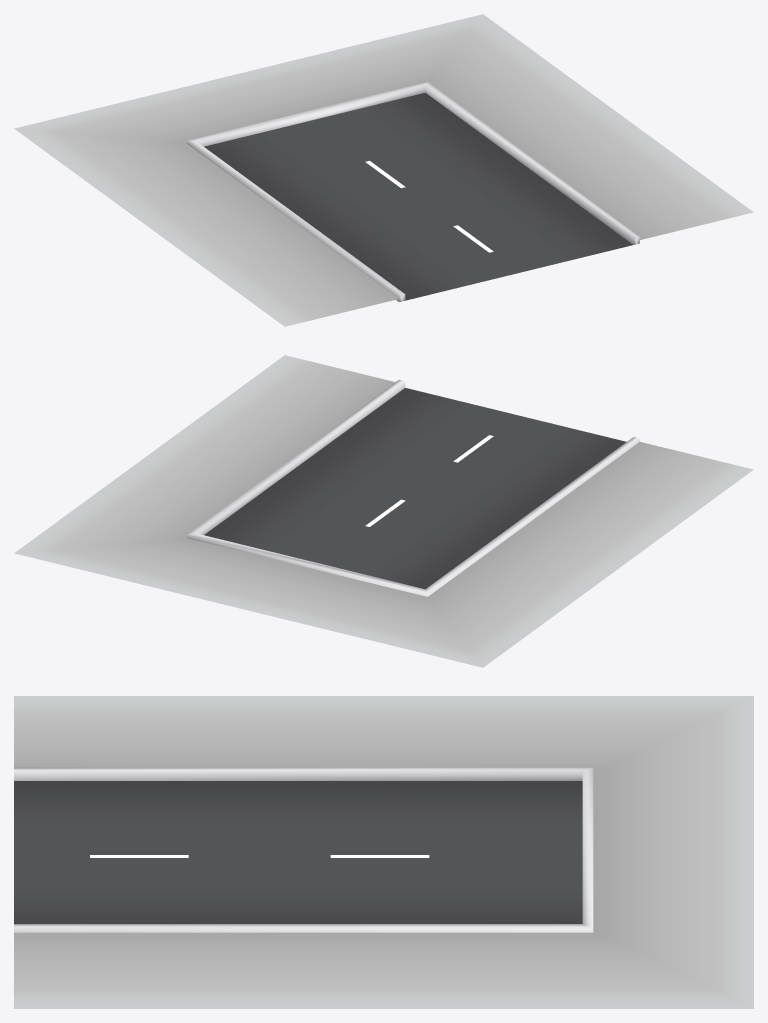
Rendered from city2-road-025.glb.
3 renders of one model, top to bottom at view 1: azimuth 30°, elevation 25°; view 2: azimuth 150°, elevation 25°; view 3: azimuth 270°, elevation 25°, orthographic. The views are drawn at different scales.
Parts seen in each view (by area): view 1: road_025; view 2: road_025; view 3: road_025.
Boxes of the visible parts, x1,y1,x2,y2 form: road_025: (14,14,753,326); road_025: (14,355,753,667); road_025: (14,696,753,1008).
Bounding box in the file's own units: 15 × 0.2 × 15.
1 material, 1 textured.
